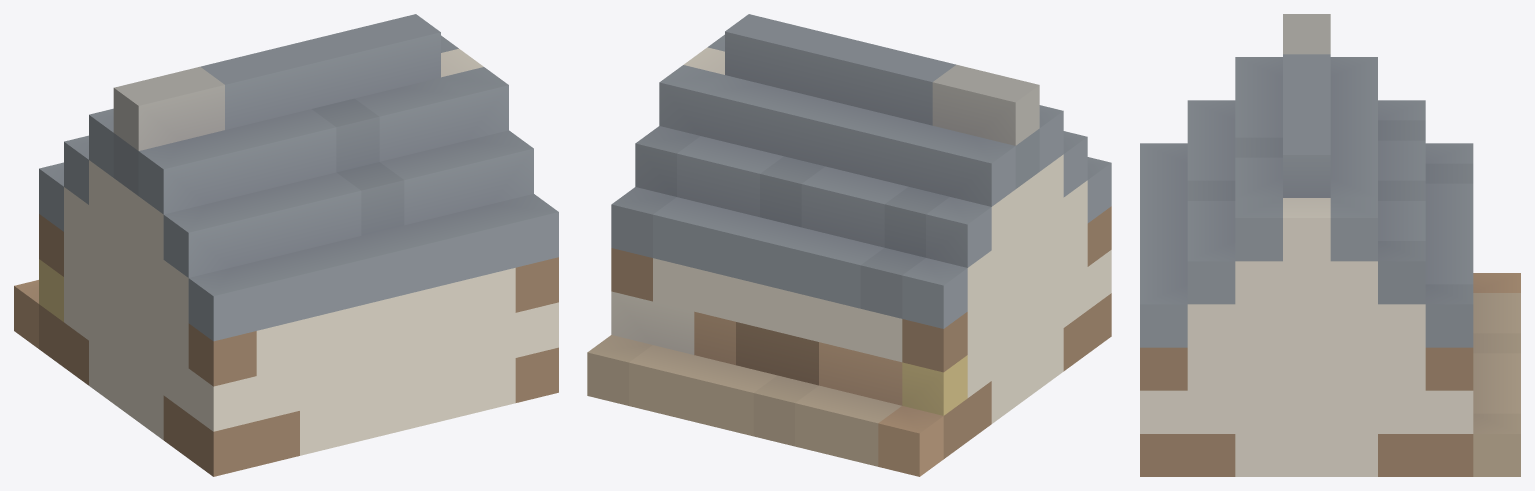
Rendered from candle_foundry.lite.glb.
The picture shows the model from 3 angles, left to right: view 1: azimuth 30°, elevation 25°; view 2: azimuth 150°, elevation 25°; view 3: azimuth 270°, elevation 25°; orthographic projection. The views are drawn at different scales.
Visible parts, largest first — view 1: candle_foundry; view 2: candle_foundry; view 3: candle_foundry.
Part boxes in pixels (box(x1,y1,x2,y2)): candle_foundry: box(14, 14, 558, 476); candle_foundry: box(587, 14, 1111, 476); candle_foundry: box(1140, 14, 1520, 476).
Bounding box in the file's own units: 4 × 3.5 × 4.
